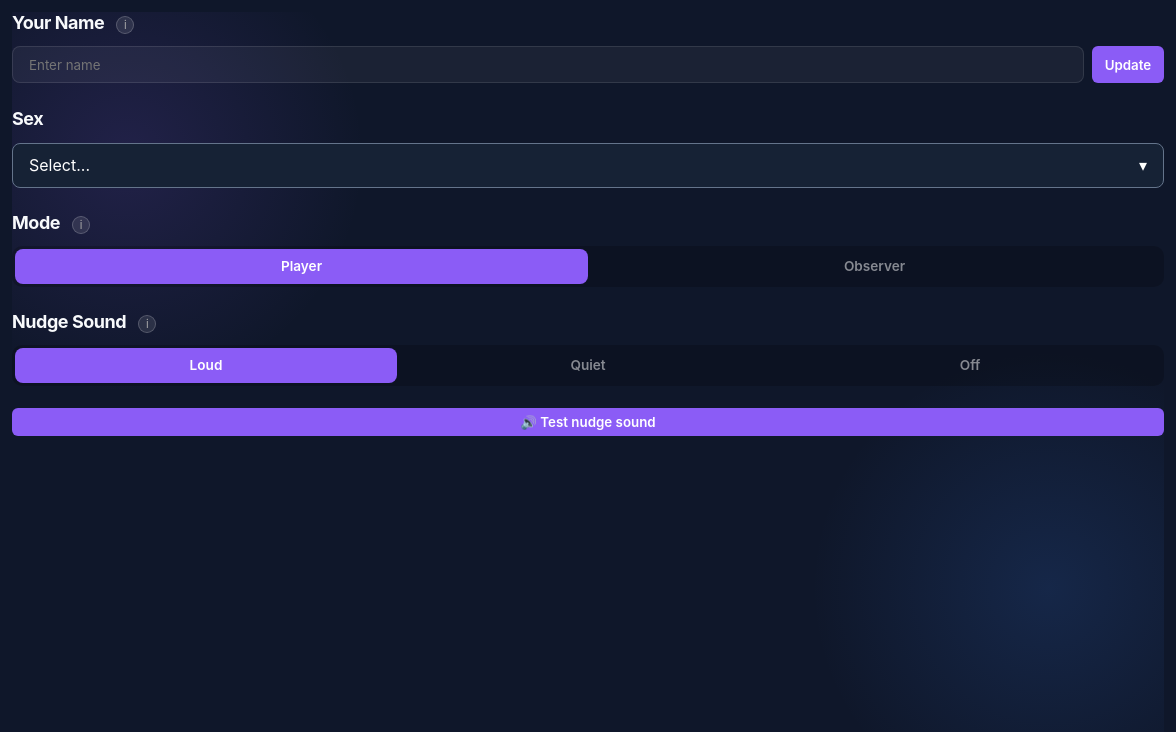
Test: player sex setting › saves a selection
What coordinates should you click on to do the following:
click the button with class "sex-trigger"
I would click on:
 (60, 165)
Its box is [12,143,1164,188].
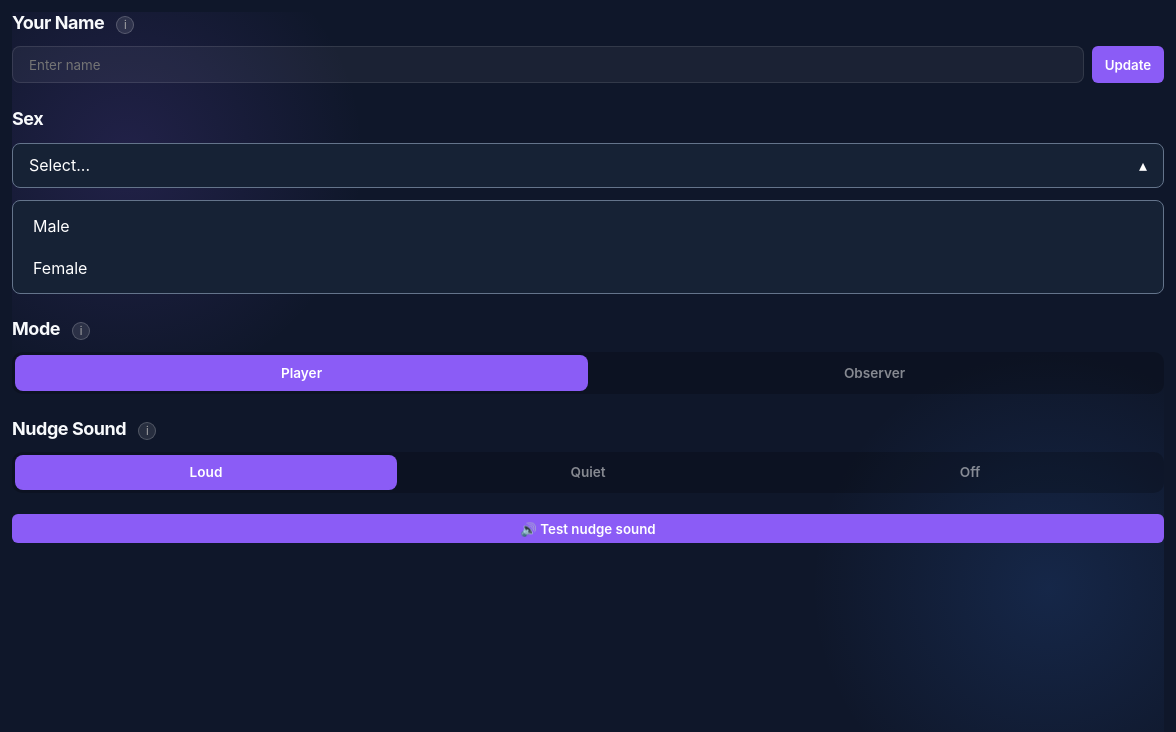
What coordinates should you click on to do the following:
click the option "Female"
I would click on:
 (60, 268)
Its box is [17,247,1159,289].
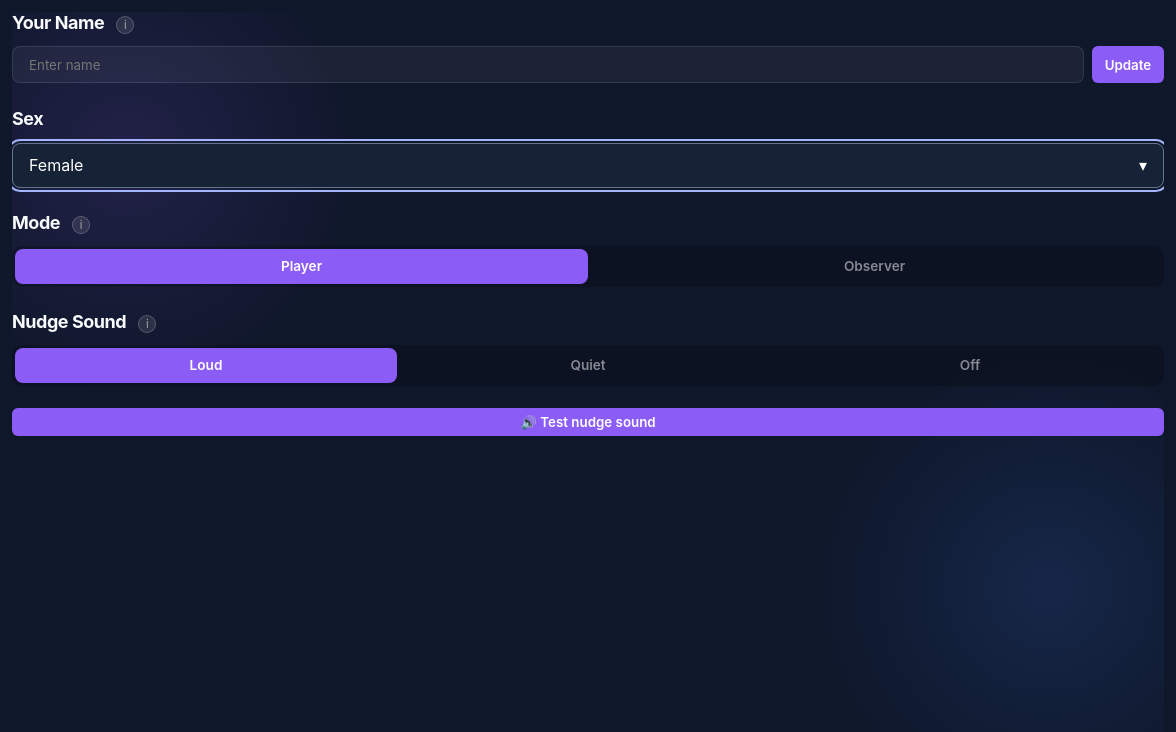
Result: the text "Female" is shown at [29,155,83,175]
Result: the option is gone
